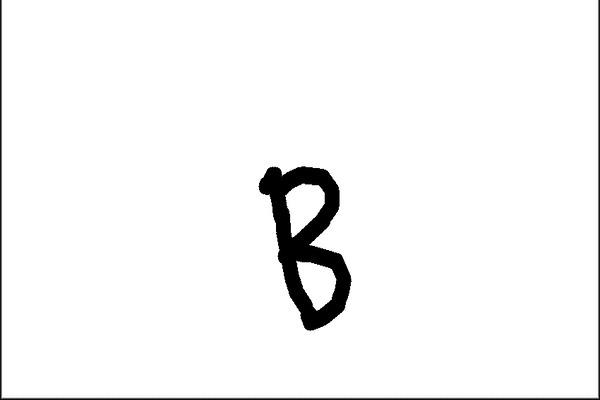B: (251, 157, 359, 335)
